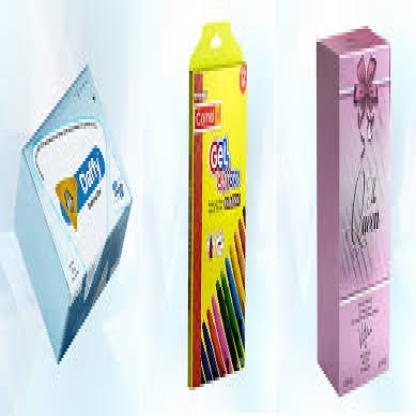trash: (16, 66, 131, 359), (317, 27, 389, 394), (189, 22, 246, 386)
